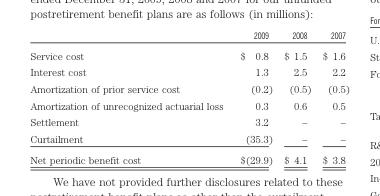table: (29, 29, 349, 164)
table column: (29, 29, 230, 164), (230, 29, 277, 164), (277, 29, 316, 164), (316, 29, 349, 164)
table column header: (29, 29, 349, 44)
table row: (29, 44, 349, 63), (29, 129, 349, 148), (29, 79, 349, 96), (29, 96, 349, 113), (29, 63, 349, 79), (29, 113, 349, 129), (29, 148, 349, 164), (29, 29, 349, 44)
